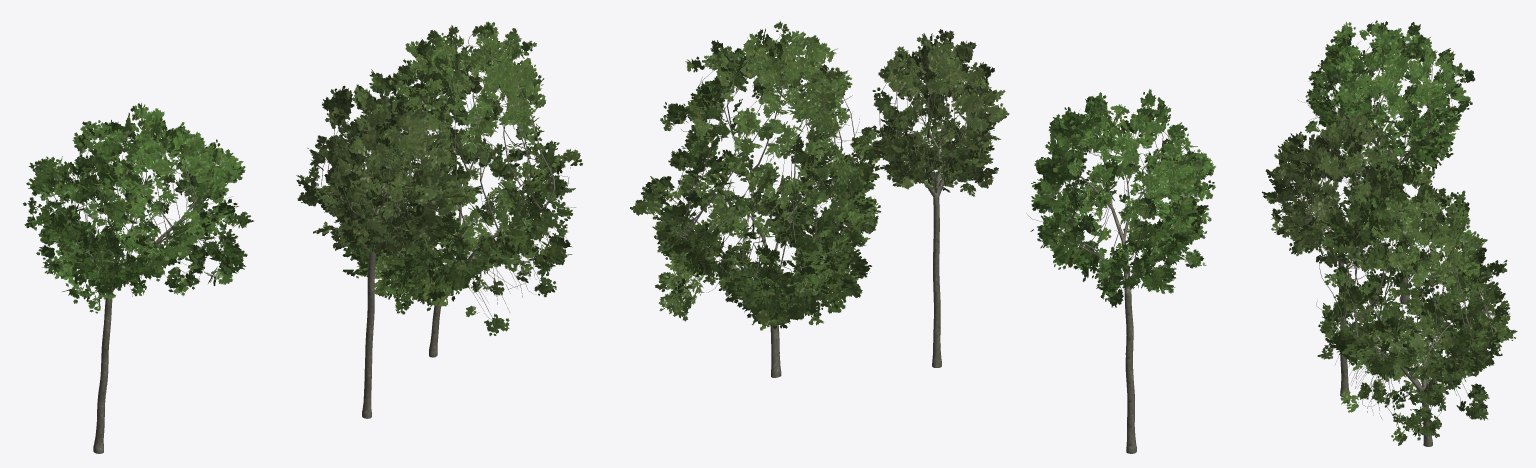
The model's file is pilote_platanes19.glb.
3 renders of one model, left to right at view 1: azimuth 30°, elevation 25°; view 2: azimuth 150°, elevation 25°; view 3: azimuth 270°, elevation 25°, orthographic. The views are drawn at different scales.
Visible parts, largest first — view 1: P19 Platane 783 texture, P19 Platane 807 texture, P19 Platane 782 texture; view 2: P19 Platane 783 texture, P19 Platane 807 texture, P19 Platane 782 texture; view 3: P19 Platane 783 texture, P19 Platane 807 texture, P19 Platane 782 texture.
Part boxes in pixels (x1=…): P19 Platane 783 texture: x1=338, y1=21, x2=582, y2=357; P19 Platane 807 texture: x1=23, y1=103, x2=253, y2=453; P19 Platane 782 texture: x1=296, y1=84, x2=465, y2=418; P19 Platane 783 texture: x1=630, y1=21, x2=880, y2=377; P19 Platane 807 texture: x1=1026, y1=89, x2=1215, y2=453; P19 Platane 782 texture: x1=869, y1=29, x2=1009, y2=367; P19 Platane 783 texture: x1=1316, y1=158, x2=1517, y2=446; P19 Platane 807 texture: x1=1298, y1=20, x2=1474, y2=304; P19 Platane 782 texture: x1=1262, y1=109, x2=1398, y2=397.
Bounding box in the file's own units: 27.27 × 16.29 × 13.27.
Materials: 6 (6 with a texture image).
